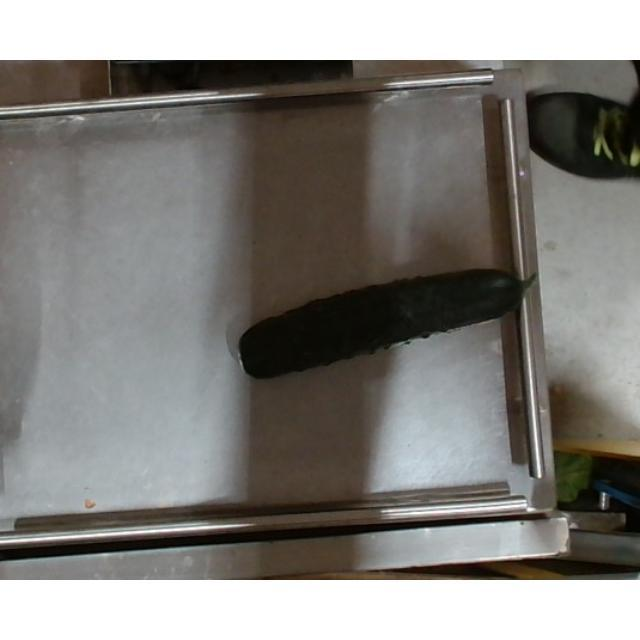cucumber: (236, 266, 536, 380)
